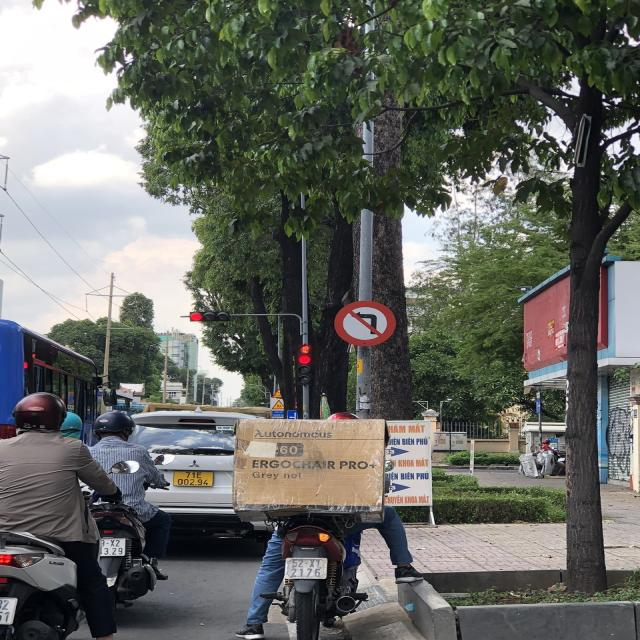Bien bao cam re trai: (332, 298, 399, 347)
